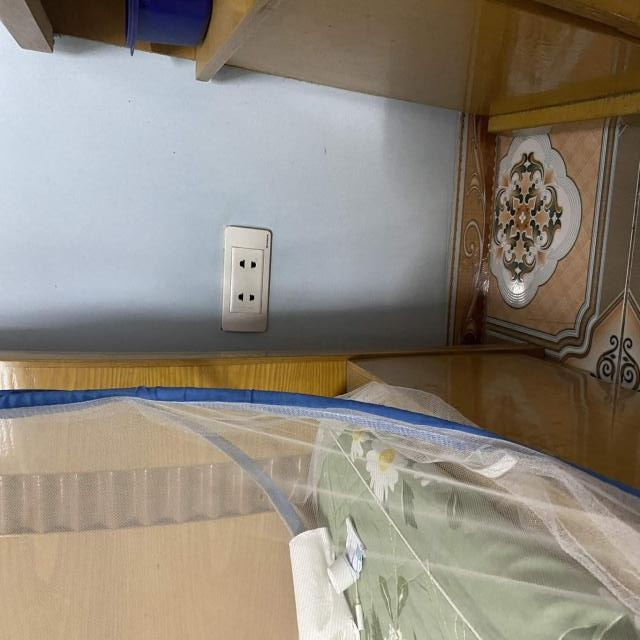outlet: (221, 226, 272, 333)
